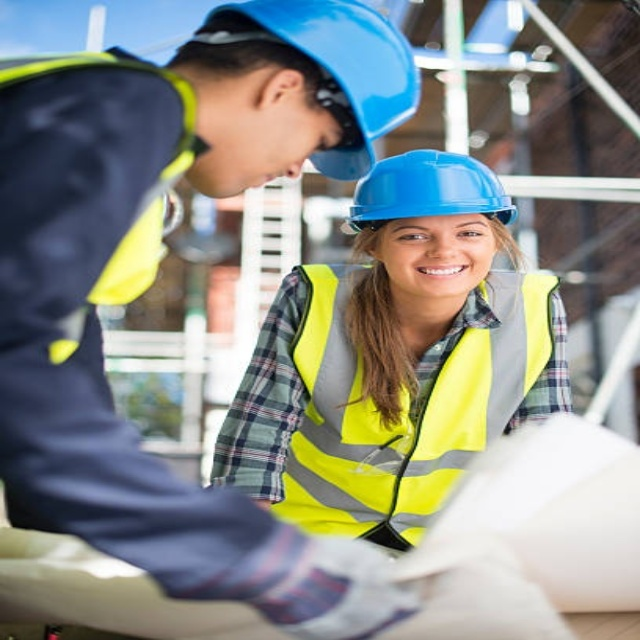Guantes: (144, 517, 424, 636)
Sin_gafas: (386, 220, 494, 247), (296, 108, 334, 163)
Sin_mascara: (223, 139, 285, 193), (408, 260, 474, 293)
